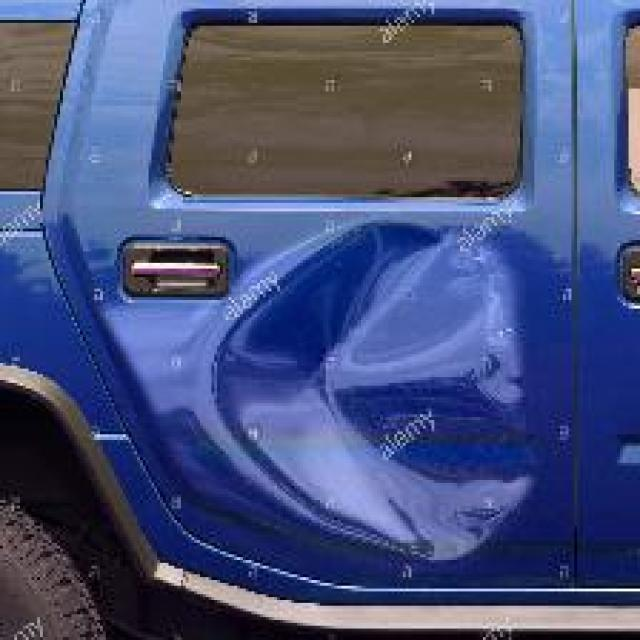damaged: (214, 220, 569, 566)
